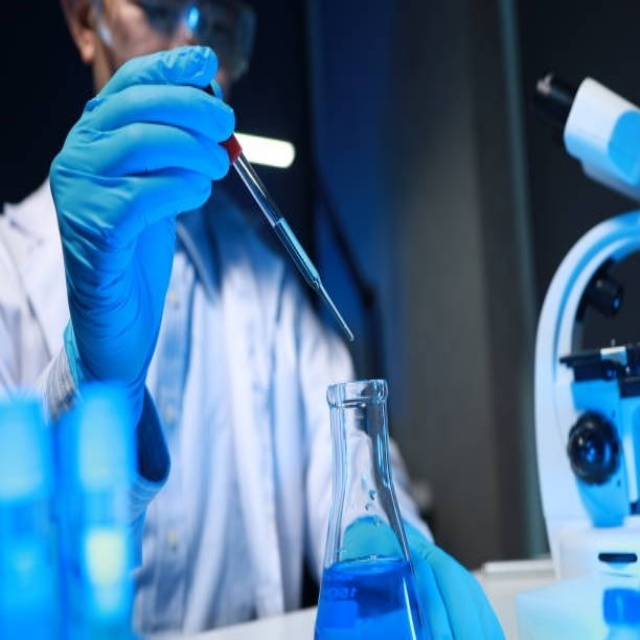Gafas: (90, 0, 255, 81)
Guantes: (48, 40, 232, 432), (398, 518, 511, 640)
